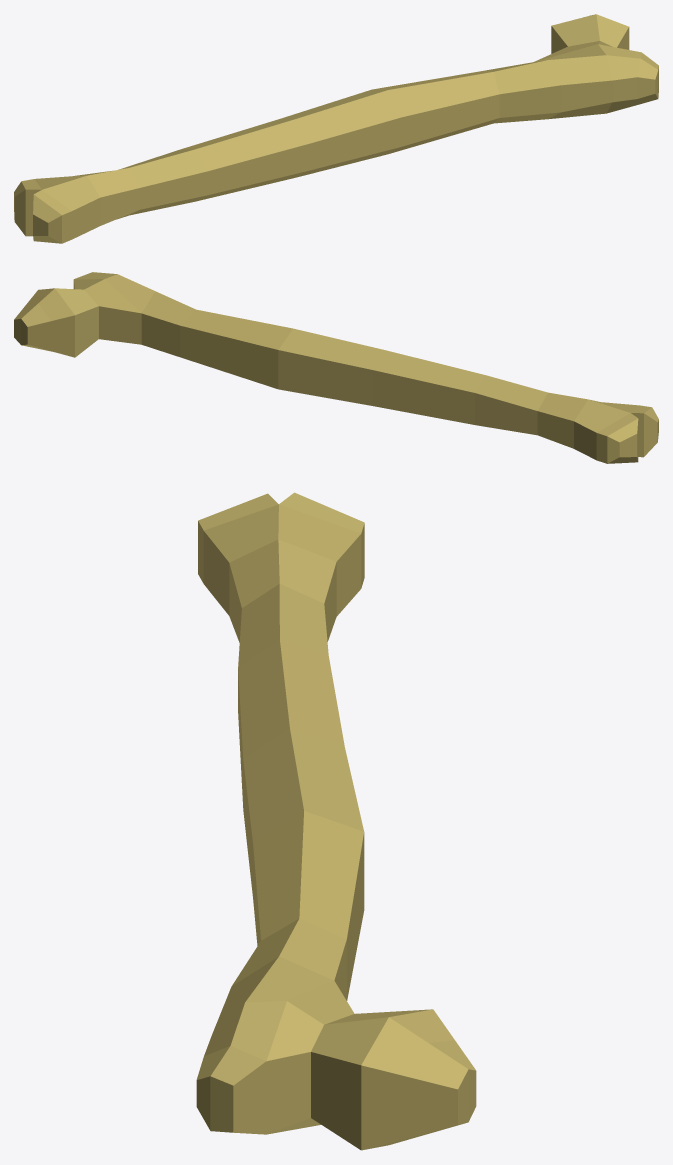
The model's file is bone.obj.
3 renders of one model, top to bottom at view 1: azimuth 30°, elevation 25°; view 2: azimuth 150°, elevation 25°; view 3: azimuth 270°, elevation 25°, orthographic. The views are drawn at different scales.
Parts seen in each view (by area): view 1: Bone_Cube.190; view 2: Bone_Cube.190; view 3: Bone_Cube.190.
Boxes of the visible parts, bbox=[...] form: Bone_Cube.190: bbox=[14, 14, 658, 243]; Bone_Cube.190: bbox=[14, 272, 658, 463]; Bone_Cube.190: bbox=[196, 492, 476, 1150].
Bounding box in the file's own units: 0.4305 × 0.0447 × 0.0885.
